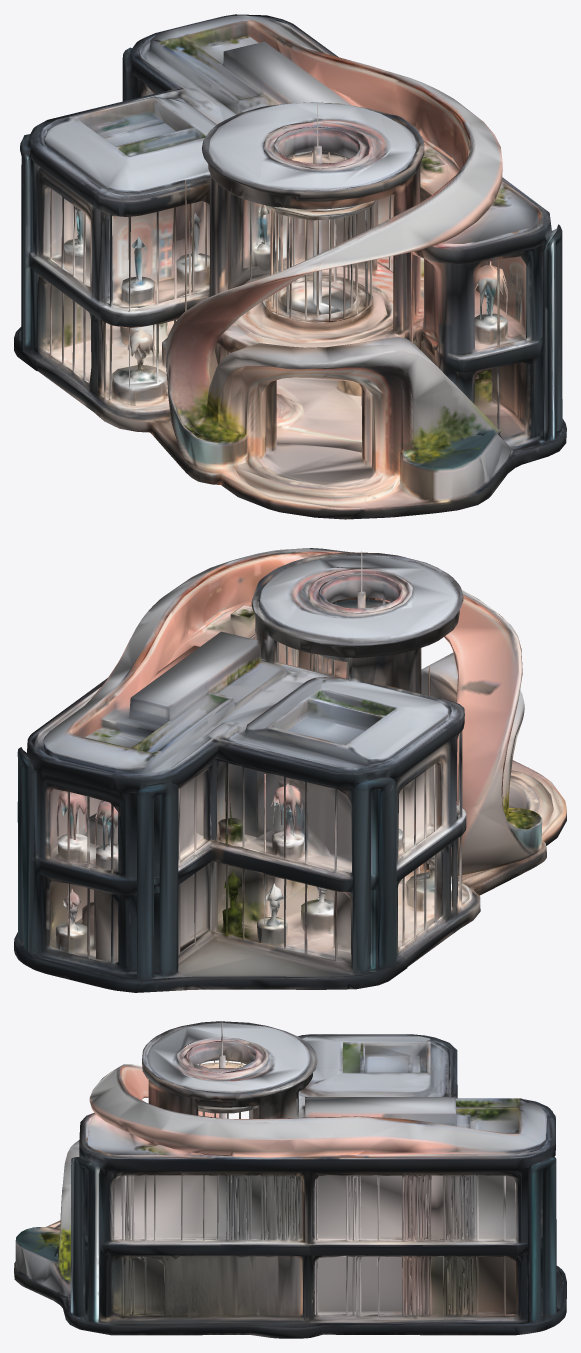
Rendered from passiona-fit-studio-gateway.glb.
3 renders of one model, top to bottom at view 1: azimuth 30°, elevation 25°; view 2: azimuth 150°, elevation 25°; view 3: azimuth 270°, elevation 25°, orthographic. The views are drawn at different scales.
Visible parts, largest first — view 1: node_0; view 2: node_0; view 3: node_0.
Part boxes in pixels (left/top/right/bottom): node_0: left=14, top=14, right=566, bottom=519; node_0: left=14, top=548, right=566, bottom=992; node_0: left=14, top=1021, right=566, bottom=1338.
Size of the model in its own units: 0.581 by 0.5 by 1.01.
1 material, 1 textured.
